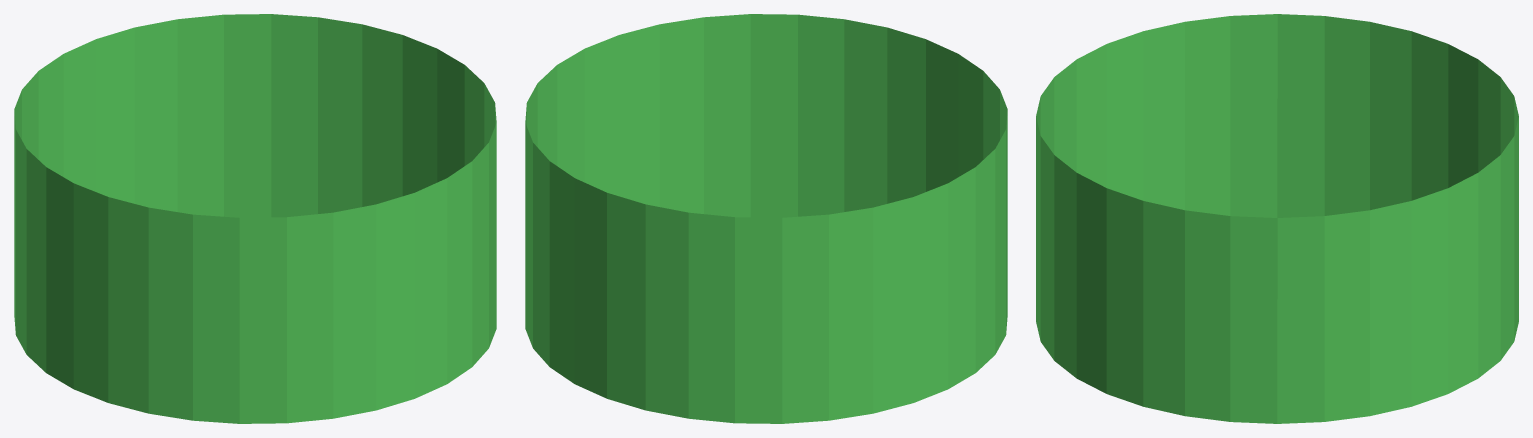
Rendered from Teleporter.fbx.
3 views of the same model, side by side, from view 1: azimuth 30°, elevation 25°; view 2: azimuth 150°, elevation 25°; view 3: azimuth 270°, elevation 25° (orthographic).
Parts seen in each view (by area): view 1: Teleporter; view 2: Teleporter; view 3: Teleporter.
Boxes of the visible parts, x1,y1,x2,y2 form: Teleporter: (14, 14, 496, 423); Teleporter: (525, 14, 1007, 423); Teleporter: (1036, 14, 1518, 423).
Size of the model in its own units: 153 by 71.95 by 153.
